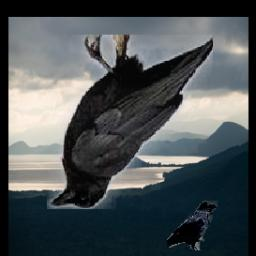Crow: (48, 35, 214, 209), (167, 202, 218, 251)
